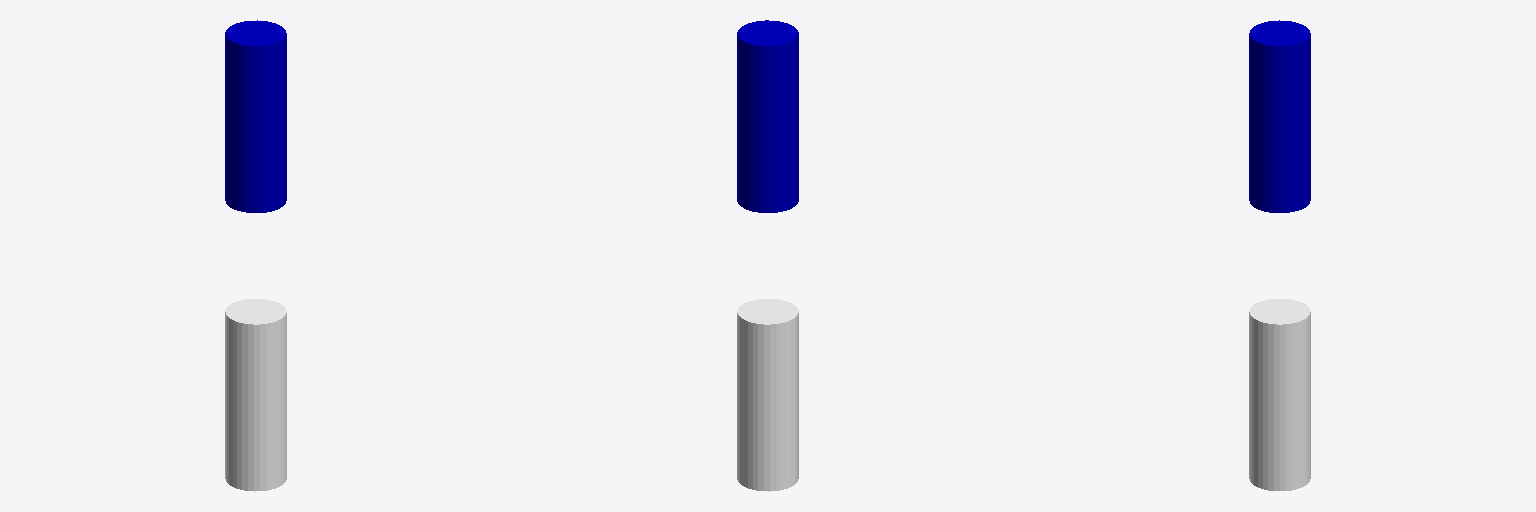
URDF robot description (test_robot):
<?xml version="1.0"?>

<robot name="test_robot">

  <link name="link1">
    <visual>
      <geometry>
        <cylinder length="0.6" radius="0.1"/>
      </geometry>
      <material name="red">
        <color rgba="1 1 1 1"/>
      </material>
    </visual>
    <collision>
      <geometry>
        <cylinder length="0.6" radius="0.1"/>
      </geometry>
    </collision>
  </link>

  <link name="link2">
    <visual>
      <geometry>
        <cylinder length="0.6" radius="0.1"/>
      </geometry>
      <material name="blue">
        <color rgba="0 0 .8 1"/>
      </material>
    </visual>
    <collision>
      <geometry>
        <cylinder length="0.6" radius="0.1"/>
      </geometry>
    </collision>
  </link>

  <joint name="joint1" type="continuous">
    <parent link="link1"/>
    <child link="link2"/>
    <origin xyz="0 0 1" rpy="0 0 1" />
    <axis xyz="-0.9 0.15 0" />
  </joint>

</robot>

--- Facts derived from the render (not from the file) ---
The picture shows the robot from 3 angles, left to right: view 1: azimuth 30°, elevation 25°; view 2: azimuth 150°, elevation 25°; view 3: azimuth 270°, elevation 25°; orthographic projection.
Robot: test_robot — 2 links, 1 joints (1 continuous); root link link1; default pose: every joint at zero.
Visible links, largest first — view 1: link1, link2; view 2: link2, link1; view 3: link1, link2.
Link boxes in pixels (x1,y1,x2,y2): link1: (225, 299, 286, 491); link2: (225, 20, 286, 212); link2: (737, 20, 798, 212); link1: (737, 299, 798, 491); link1: (1249, 299, 1310, 490); link2: (1249, 20, 1310, 212).
Bounding box of the posed robot: 0.2 × 0.2 × 1.6 m (x, y, z).
Geometry: primitives only (box / cylinder / sphere), no mesh files.